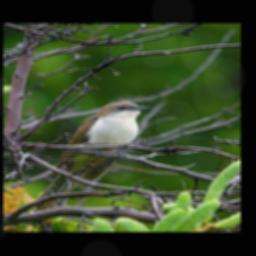Cuckoo: (27, 99, 147, 213)
